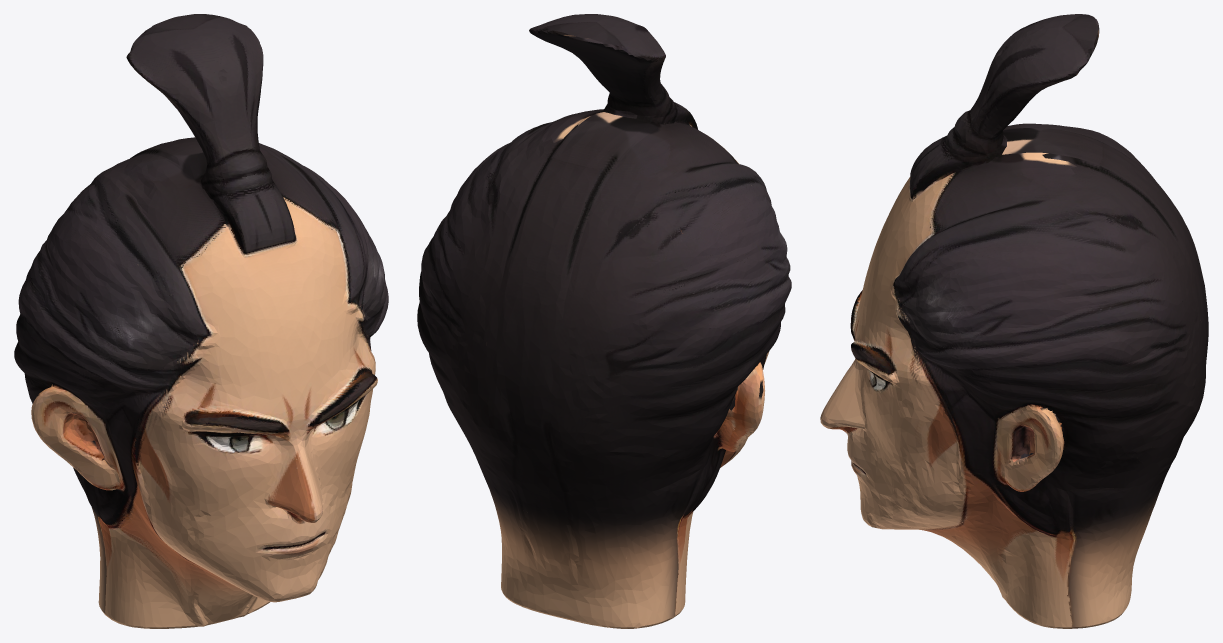
Rendered from side_bayushiguard_repaired_atlas.glb.
The picture shows the model from 3 angles, left to right: view 1: azimuth 30°, elevation 25°; view 2: azimuth 150°, elevation 25°; view 3: azimuth 270°, elevation 25°; orthographic projection.
Visible parts, largest first — view 1: temp_mesh.ply; view 2: temp_mesh.ply; view 3: temp_mesh.ply.
Part boxes in pixels (x1,y1,x2,y2): temp_mesh.ply: [14, 14, 388, 628]; temp_mesh.ply: [417, 14, 791, 628]; temp_mesh.ply: [820, 14, 1208, 628].
Bounding box in the file's own units: 0.856 × 1.42 × 0.8895.
Materials: 1 (1 with a texture image).
